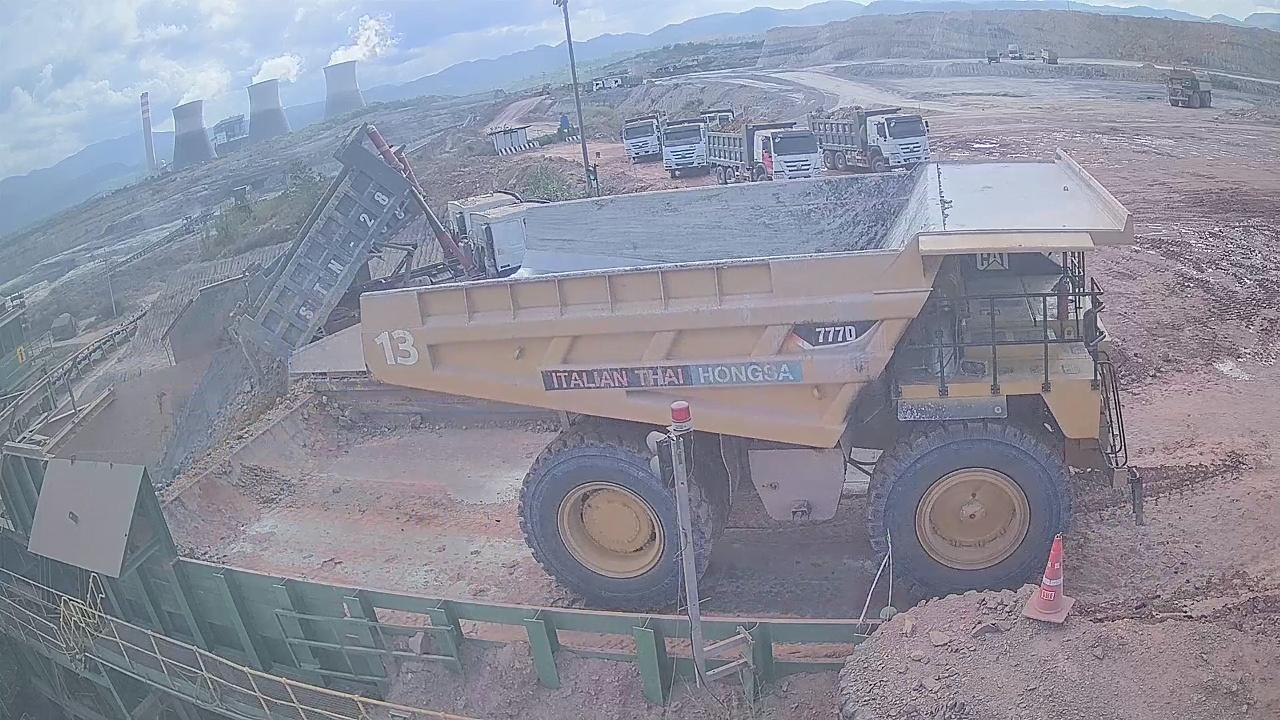company: (529, 357, 830, 394)
empty_load: (502, 142, 929, 281)
mining_truck: (358, 127, 1151, 602)
tail_number: (373, 323, 422, 373)
truck_size: (786, 319, 887, 350)
